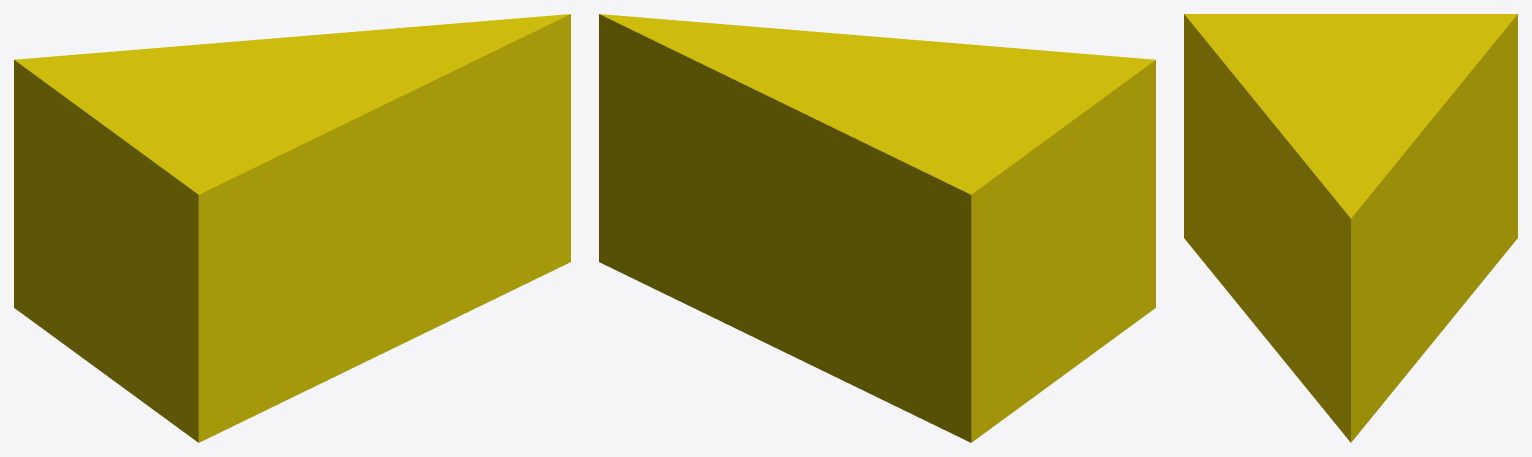
Rendered from cheeseobj.fbx.
3 renders of one model, left to right at view 1: azimuth 30°, elevation 25°; view 2: azimuth 150°, elevation 25°; view 3: azimuth 270°, elevation 25°, orthographic. The views are drawn at different scales.
Visible parts, largest first — view 1: CheeseObject; view 2: CheeseObject; view 3: CheeseObject.
Boxes of the visible parts, x1=… form: CheeseObject: x1=14, y1=14, x2=570, y2=442; CheeseObject: x1=599, y1=14, x2=1155, y2=442; CheeseObject: x1=1184, y1=14, x2=1517, y2=442.
Bounding box in the file's own units: 50 × 25.52 × 34.43.
